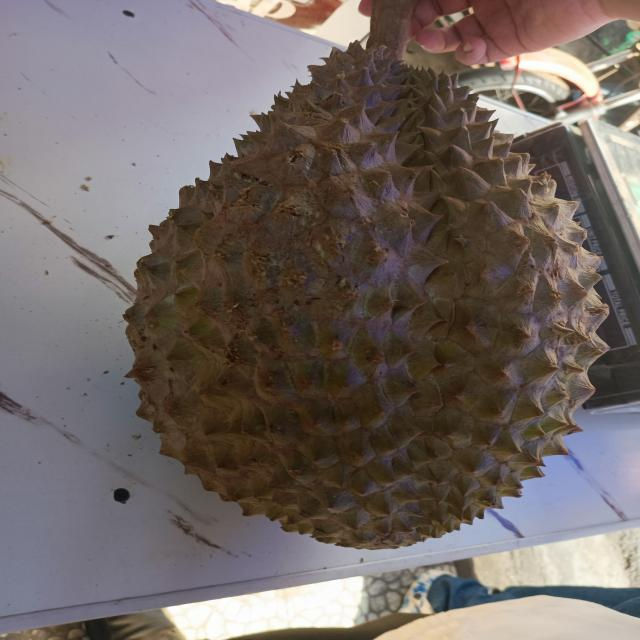mature: (125, 43, 608, 549)
